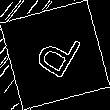P_SW: (26, 24, 84, 86)
